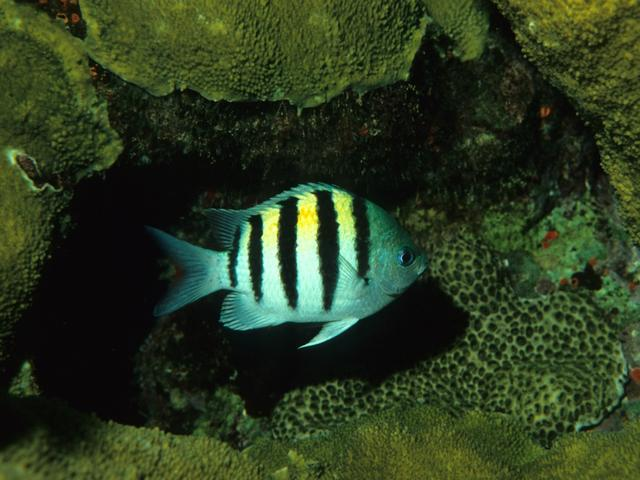fish: (102, 148, 468, 382)
